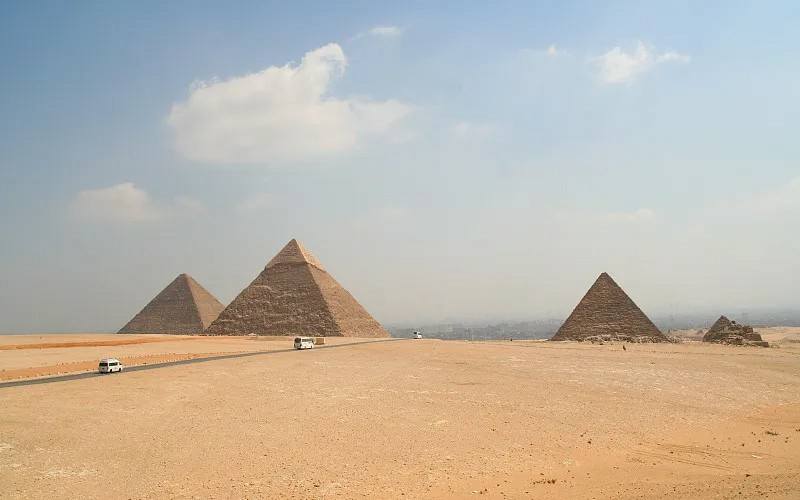Pyramid: (203, 239, 391, 338), (551, 273, 670, 343), (119, 273, 226, 335)
